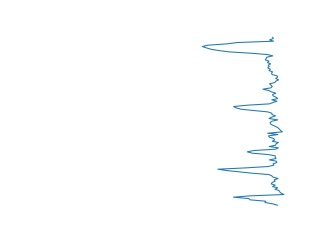distalBar: (198, 35, 284, 88)
interdistributaryEstuary: (231, 87, 285, 144)
underwaterNaturalLevee: (215, 144, 287, 207)
